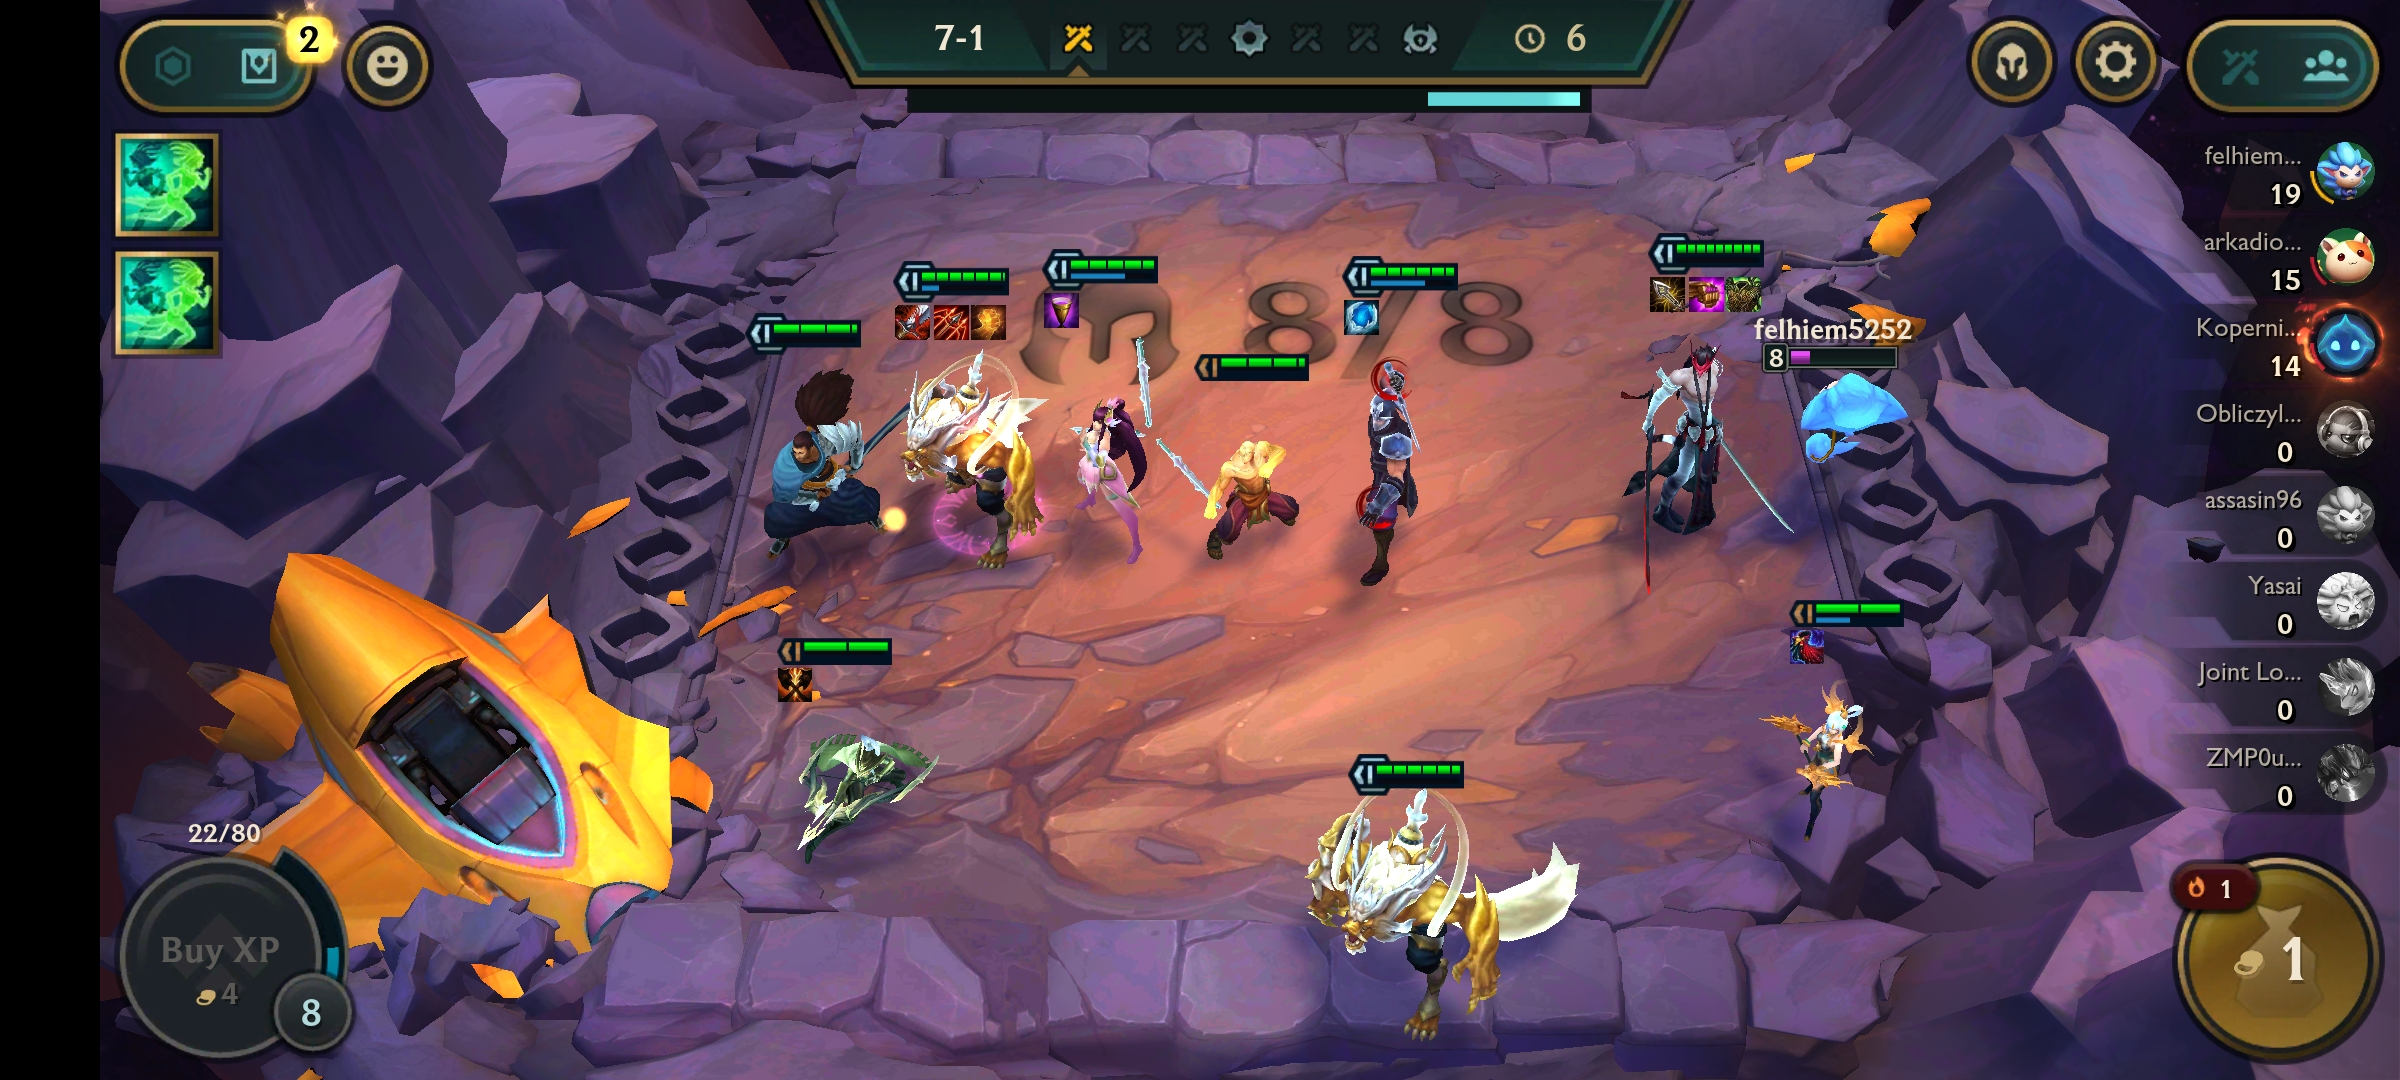1star_ashe: (750, 616, 954, 881)
1star_leesin: (1172, 333, 1333, 592)
1star_lux: (1756, 581, 1926, 857)
2star_irelia: (1024, 233, 1232, 609)
2star_shen: (1313, 236, 1492, 610)
2star_warwick: (1273, 711, 1607, 1056), (876, 226, 1070, 609)
2star_yasuo: (729, 294, 902, 592)
2star_yone: (1603, 223, 1824, 607)
item_bt: (891, 294, 938, 346)
item_chalice: (1035, 288, 1082, 338)
item_duelist: (771, 659, 814, 710)
item_frozenheart: (1338, 291, 1387, 341)
item_hoj: (964, 297, 1012, 347)
item_ie: (1645, 268, 1693, 318)
item_jeweledgauntlet: (1681, 268, 1730, 320)
item_neeko: (119, 254, 217, 356), (118, 141, 214, 231)
item_runaan: (926, 295, 973, 347)
item_shroud: (1785, 620, 1834, 672)
item_warmogs: (1723, 269, 1766, 320)
